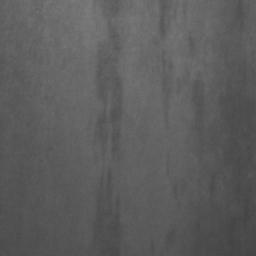Inclusion: (88, 0, 123, 256)
